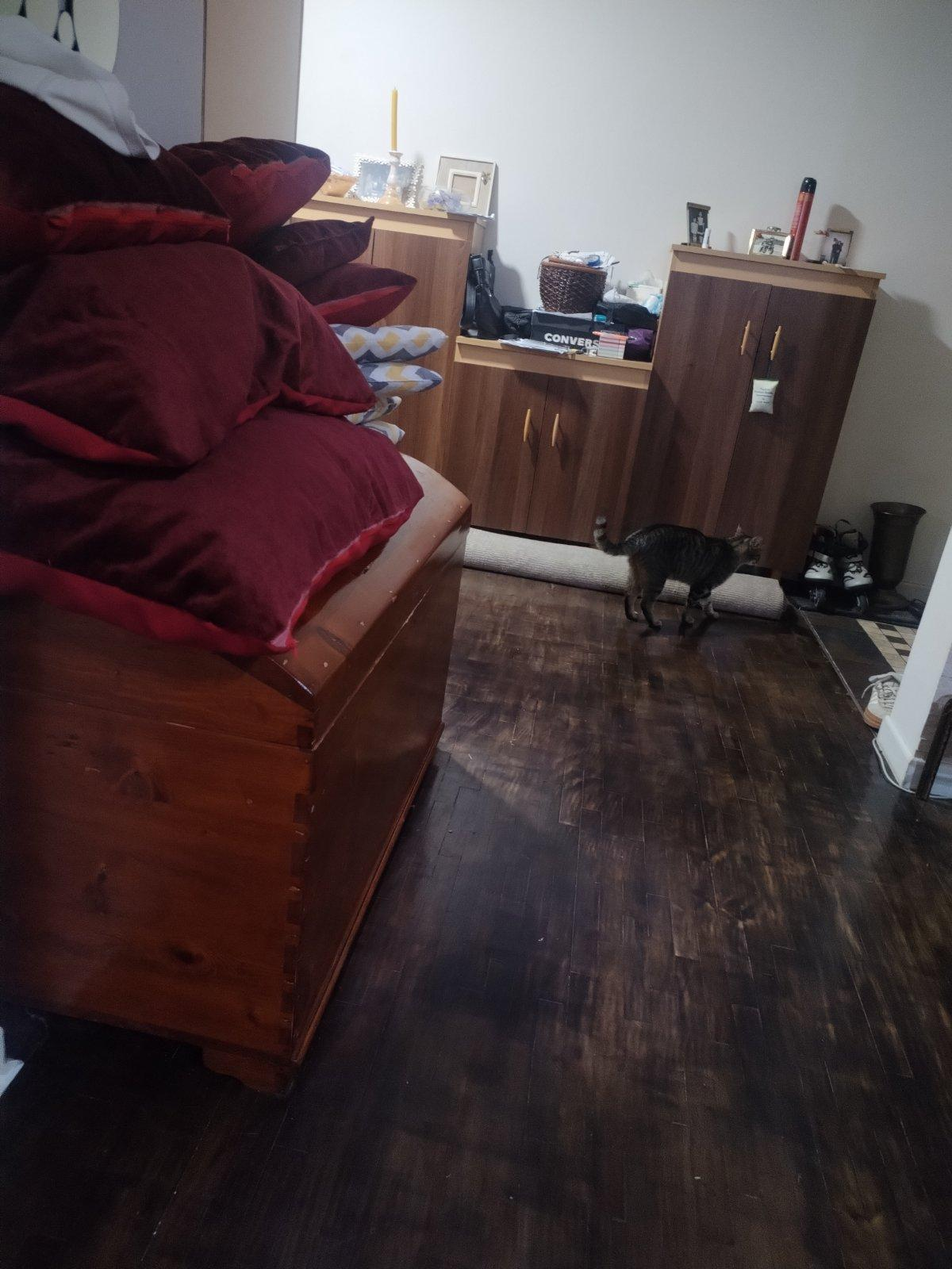macka: (591, 511, 767, 636)
